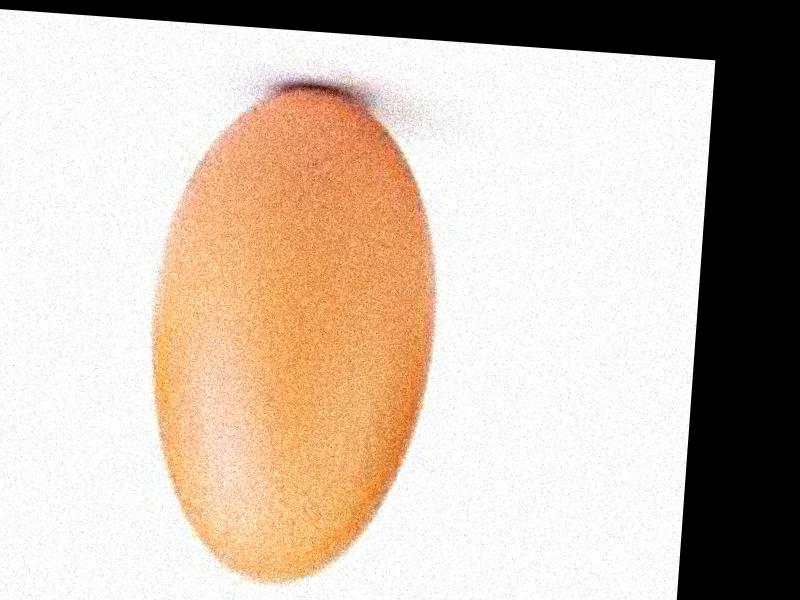Eggs: (139, 78, 448, 593)
